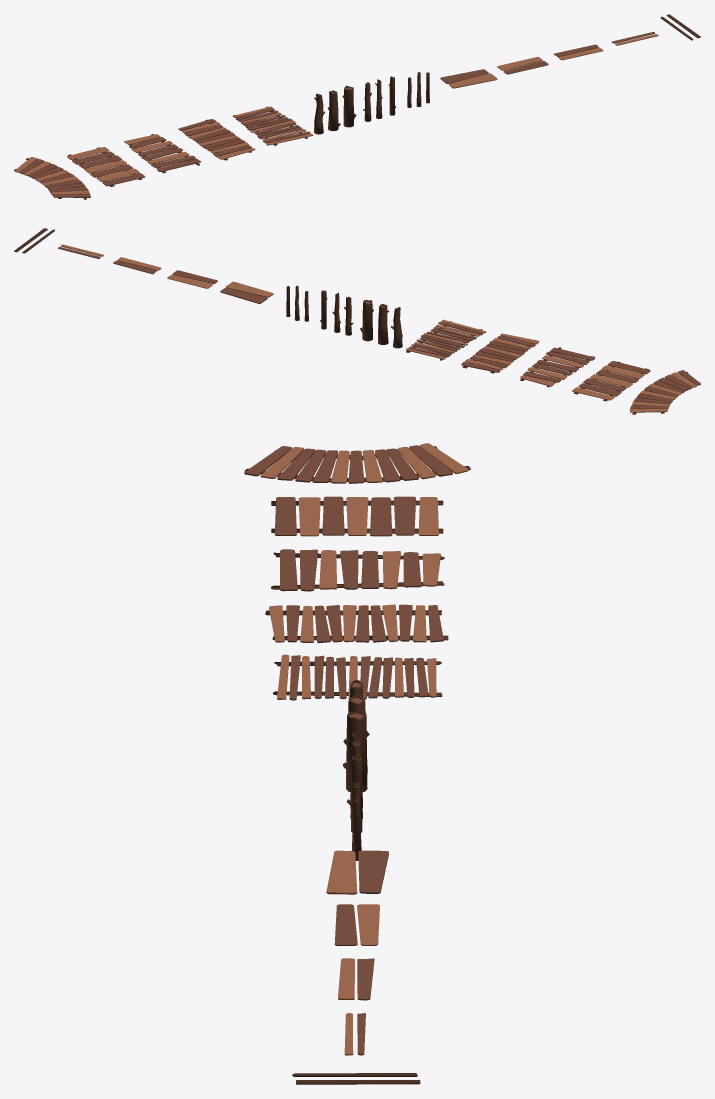
File: Boards_Smooth.fbx
The picture shows the model from 3 angles, top to bottom: view 1: azimuth 30°, elevation 25°; view 2: azimuth 150°, elevation 25°; view 3: azimuth 270°, elevation 25°; orthographic projection. The views are drawn at different scales.
Parts seen in each view (by area): view 1: Passage_Smooth_01, Passage_Smooth_04, Passage_Smooth_05, Passage_Smooth_02, Passage_Smooth_03, Log_Smooth_Type 1_01, Log_Smooth_Type 1_02, Log_Smooth_Type 1_03, Board_Smooth_Type 4_02, Board_Smooth_Type 4_01; view 2: Passage_Smooth_01, Passage_Smooth_04, Passage_Smooth_05, Passage_Smooth_02, Passage_Smooth_03, Log_Smooth_Type 1_01, Log_Smooth_Type 1_02, Log_Smooth_Type 1_03, Board_Smooth_Type 4_01, Board_Smooth_Type 4_02; view 3: Passage_Smooth_05, Passage_Smooth_04, Passage_Smooth_02, Passage_Smooth_03, Passage_Smooth_01, Board_Smooth_Type 4_02, Board_Smooth_Type 4_01, Log_Smooth_Type 1_01.
Boxes of the visible parts, left/top/right/bottom form: Passage_Smooth_01: left=232, top=106, right=313, bottom=145; Passage_Smooth_04: left=67, top=147, right=145, bottom=186; Passage_Smooth_05: left=14, top=157, right=90, bottom=199; Passage_Smooth_02: left=178, top=119, right=255, bottom=160; Passage_Smooth_03: left=124, top=134, right=200, bottom=173; Log_Smooth_Type 1_01: left=342, top=85, right=356, bottom=127; Log_Smooth_Type 1_02: left=327, top=90, right=340, bottom=131; Log_Smooth_Type 1_03: left=314, top=93, right=324, bottom=134; Board_Smooth_Type 4_02: left=449, top=73, right=497, bottom=88; Board_Smooth_Type 4_01: left=440, top=69, right=488, bottom=83; Passage_Smooth_01: left=406, top=319, right=486, bottom=360; Passage_Smooth_04: left=572, top=361, right=650, bottom=401; Passage_Smooth_05: left=629, top=370, right=700, bottom=414; Passage_Smooth_02: left=461, top=333, right=539, bottom=373; Passage_Smooth_03: left=520, top=347, right=594, bottom=387; Log_Smooth_Type 1_01: left=360, top=300, right=373, bottom=341; Log_Smooth_Type 1_02: left=378, top=304, right=388, bottom=344; Log_Smooth_Type 1_03: left=391, top=307, right=402, bottom=348; Board_Smooth_Type 4_01: left=220, top=288, right=267, bottom=303; Board_Smooth_Type 4_02: left=225, top=281, right=273, bottom=297; Passage_Smooth_05: left=244, top=443, right=470, bottom=483; Passage_Smooth_04: left=271, top=496, right=443, bottom=536; Passage_Smooth_02: left=265, top=604, right=448, bottom=643; Passage_Smooth_03: left=271, top=549, right=444, bottom=591; Passage_Smooth_01: left=273, top=654, right=442, bottom=700; Board_Smooth_Type 4_02: left=326, top=850, right=357, bottom=894; Board_Smooth_Type 4_01: left=358, top=850, right=388, bottom=893; Log_Smooth_Type 1_01: left=346, top=711, right=367, bottom=791.
Size of the model in its own units: 4135 by 234 by 620.
